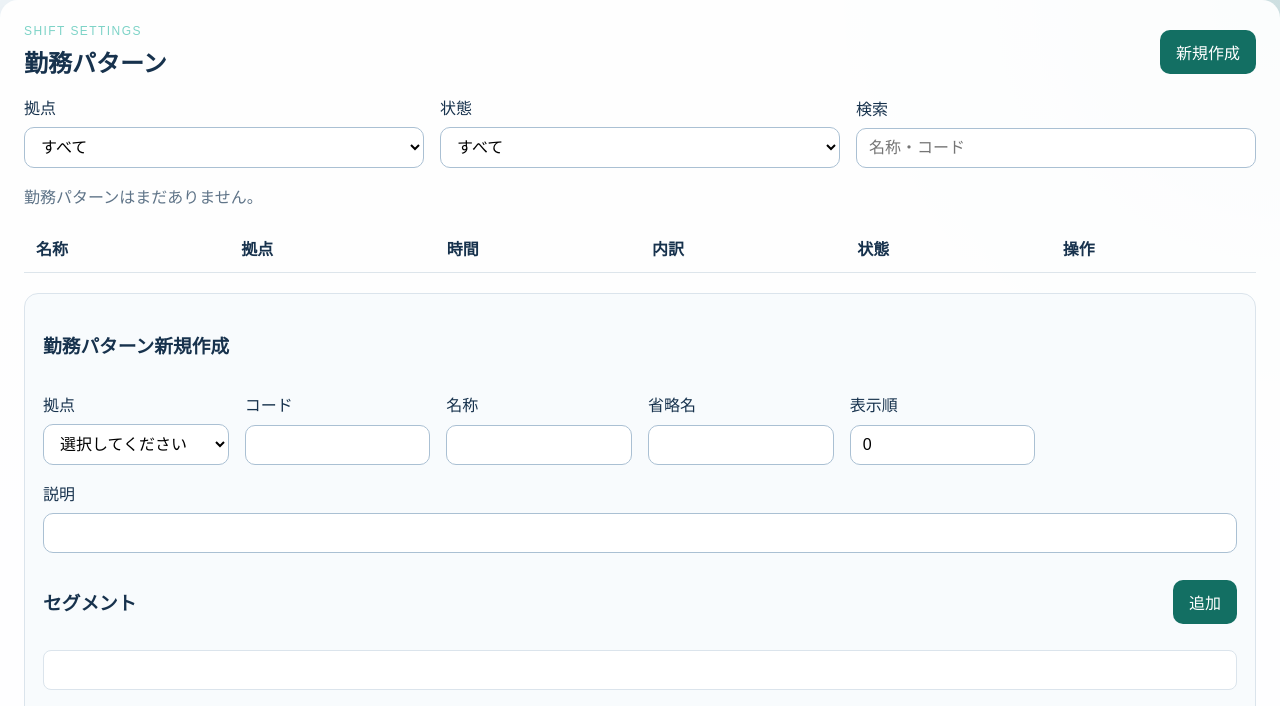
Test: shift settings pages › adds and removes segments and uses 15 minute options
Select "本館" in the dropdown labelled "拠点" below "コード" at (136, 445), box [43,424,229,465]
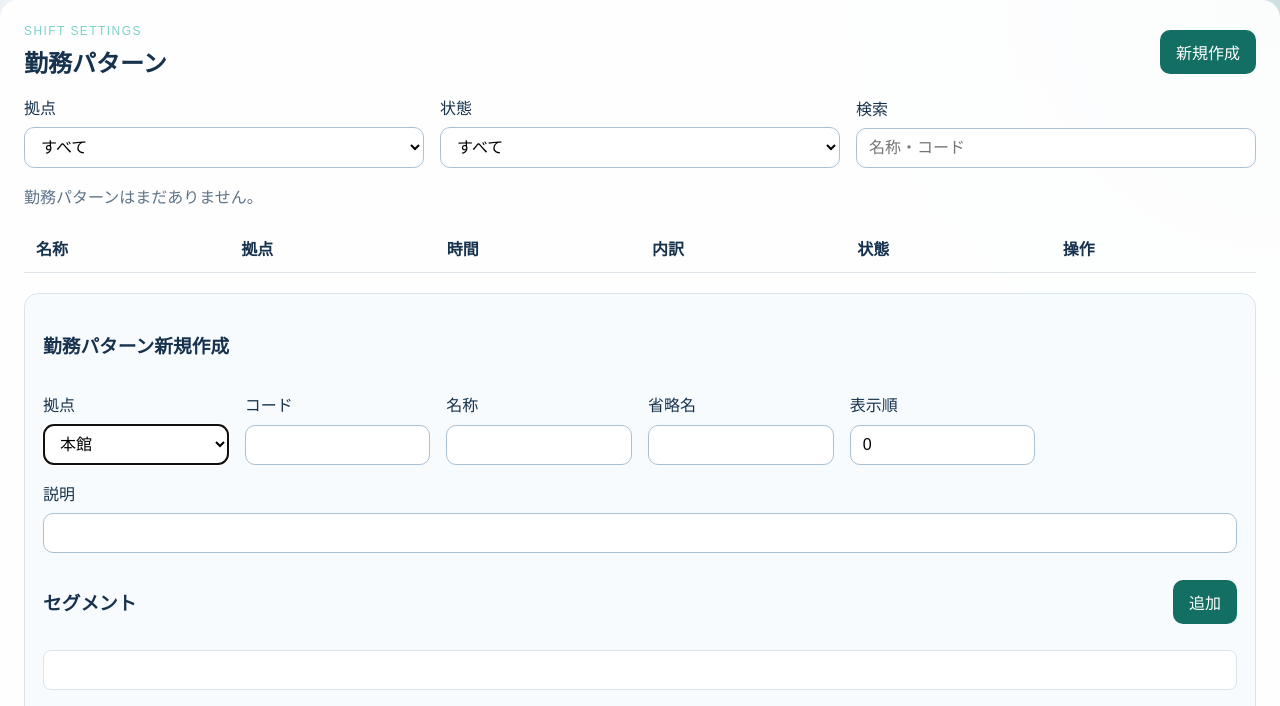
Click the button "追加" at (1205, 602), box [1173,580,1237,624]
(page scrolled)
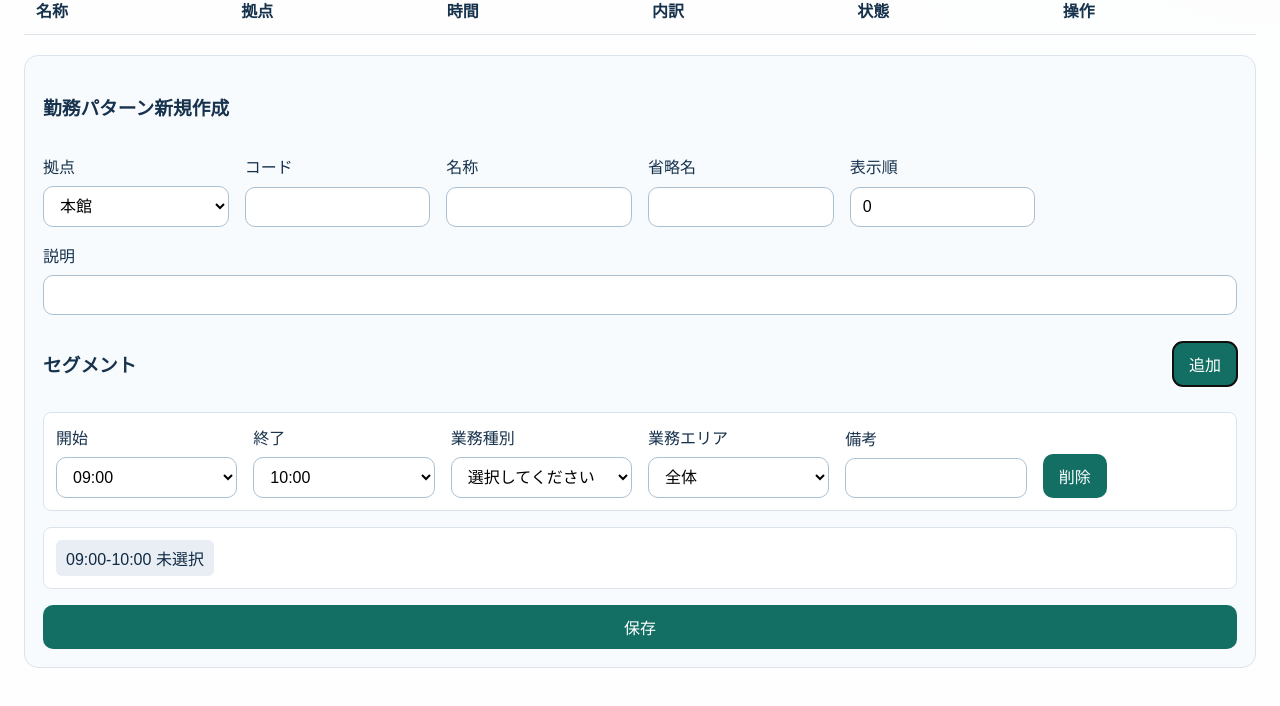
Now the text "09:00-10:00 未選択" is shown, box [56,540,214,576]
Click the button "削除" at (1075, 476), box [1043,454,1107,498]
(page scrolled)
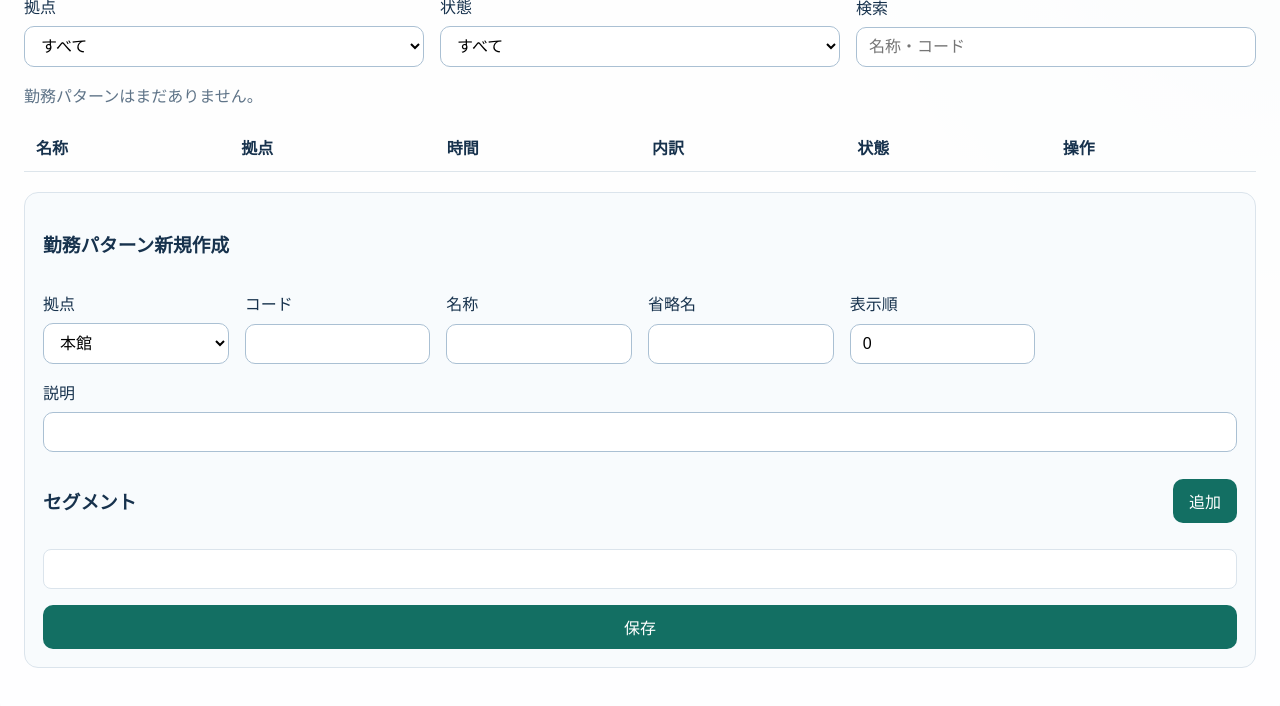
Now the text "未選択" is gone
